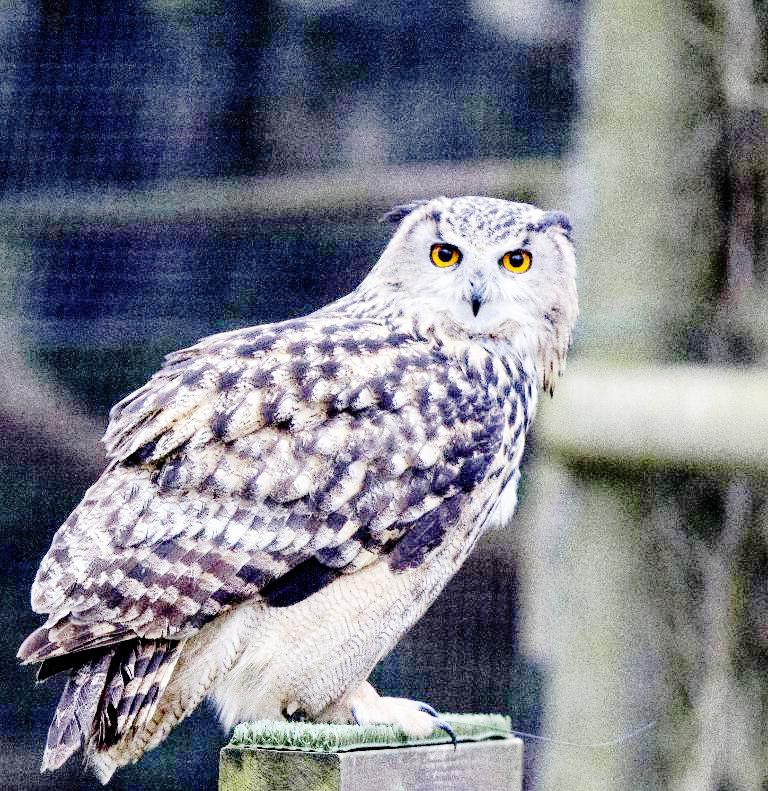Owl: (16, 196, 580, 786)
